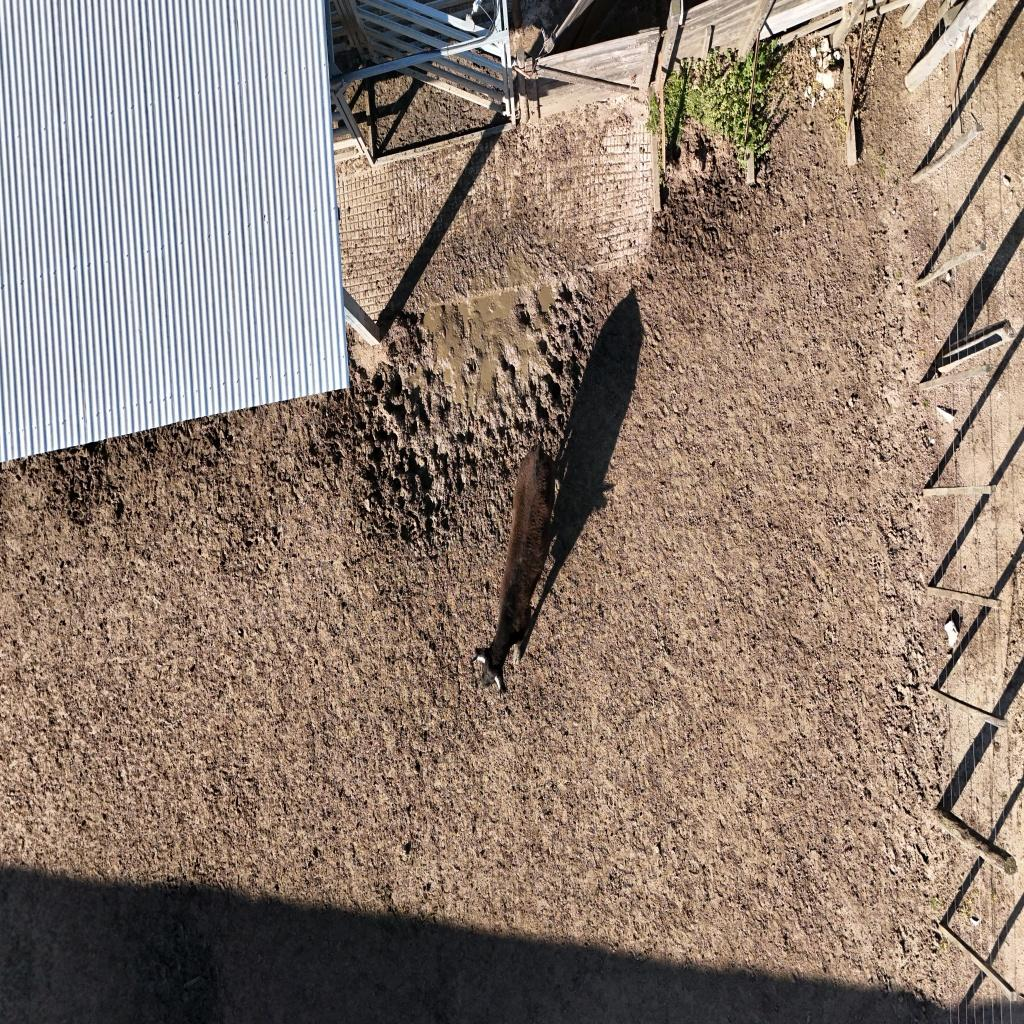cow: (454, 438, 586, 710)
